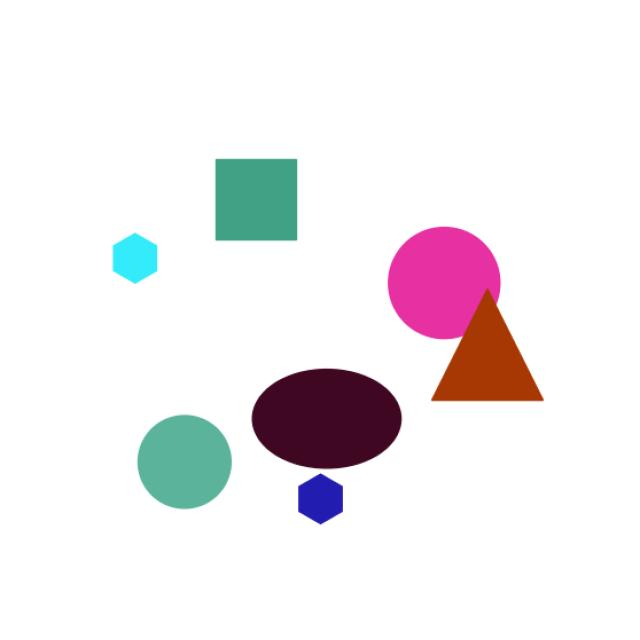Circle: (380, 226, 520, 356), (126, 412, 238, 525)
Hexagon: (281, 459, 356, 544), (91, 223, 170, 298)
Kite: (243, 362, 422, 478)
Triangle: (412, 279, 580, 448)
square: (192, 144, 313, 258)
